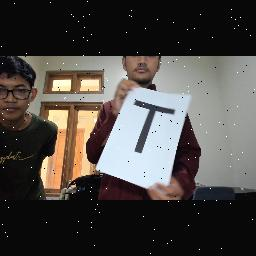t: (118, 92, 186, 160)
